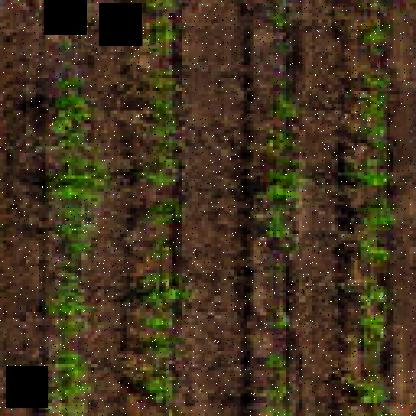sorghum_plant: (43, 43, 104, 416), (137, 2, 189, 413), (355, 23, 399, 416), (263, 89, 303, 265)
